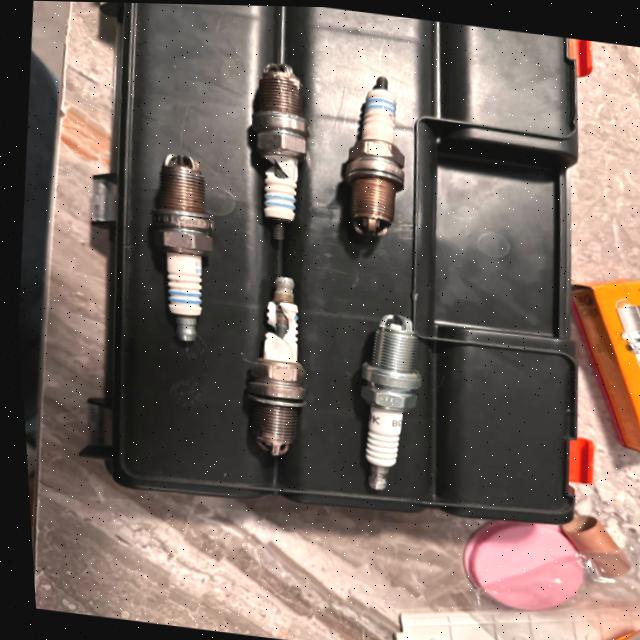damaged_spark-plug: (226, 269, 314, 459), (232, 56, 322, 238)
spark-plug: (333, 300, 429, 493), (136, 142, 224, 347), (329, 68, 415, 236)
